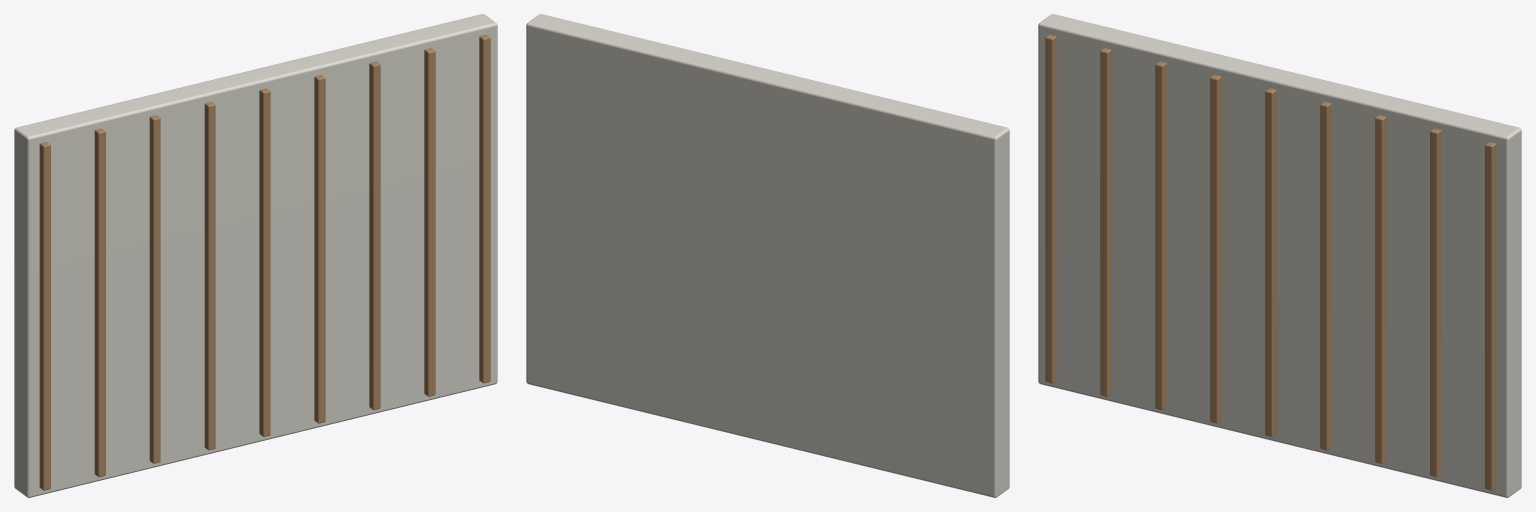
The model's file is atelier-half-wall.glb.
3 views of the same model, side by side, from view 1: azimuth 30°, elevation 25°; view 2: azimuth 150°, elevation 25°; view 3: azimuth 330°, elevation 25° (orthographic).
Visible parts, largest first — view 1: ceramic.156, legs.256; view 2: ceramic.156; view 3: ceramic.156, legs.256.
Part boxes in pixels (x1,y1,x2,y2): ceramic.156: (14, 14, 497, 497); legs.256: (39, 34, 490, 490); ceramic.156: (526, 14, 1009, 497); ceramic.156: (1038, 14, 1521, 497); legs.256: (1045, 34, 1496, 490).
Size of the model in its own units: 1.5 by 1.1 by 0.1025.
